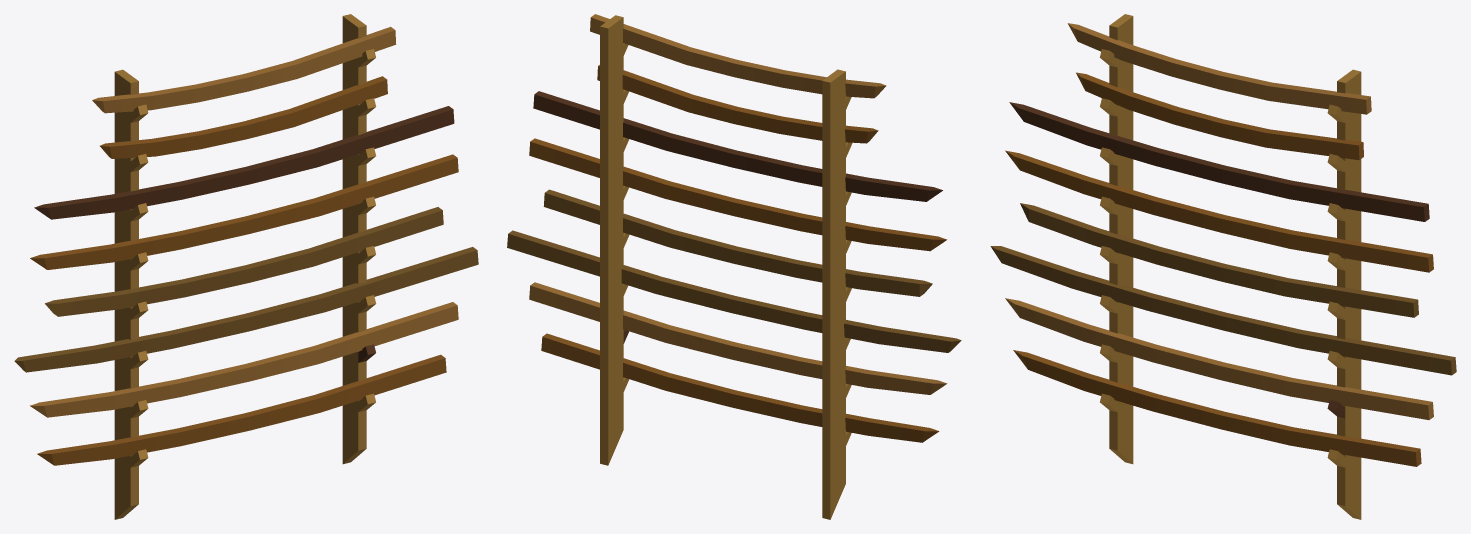
The model's file is Prop_Dojo_WoodSwordHolder_B.fbx.
3 renders of one model, left to right at view 1: azimuth 30°, elevation 25°; view 2: azimuth 150°, elevation 25°; view 3: azimuth 330°, elevation 25°, orthographic. The views are drawn at different scales.
Visible parts, largest first — view 1: Prop_Dojo_WoodSwordHolder_B; view 2: Prop_Dojo_WoodSwordHolder_B; view 3: Prop_Dojo_WoodSwordHolder_B.
Boxes of the visible parts, box(x1,y1,x2,y2) form: Prop_Dojo_WoodSwordHolder_B: box(14, 14, 478, 519); Prop_Dojo_WoodSwordHolder_B: box(507, 14, 961, 519); Prop_Dojo_WoodSwordHolder_B: box(990, 14, 1456, 519).
Bounding box in the file's own units: 134 × 124 × 12.72.
